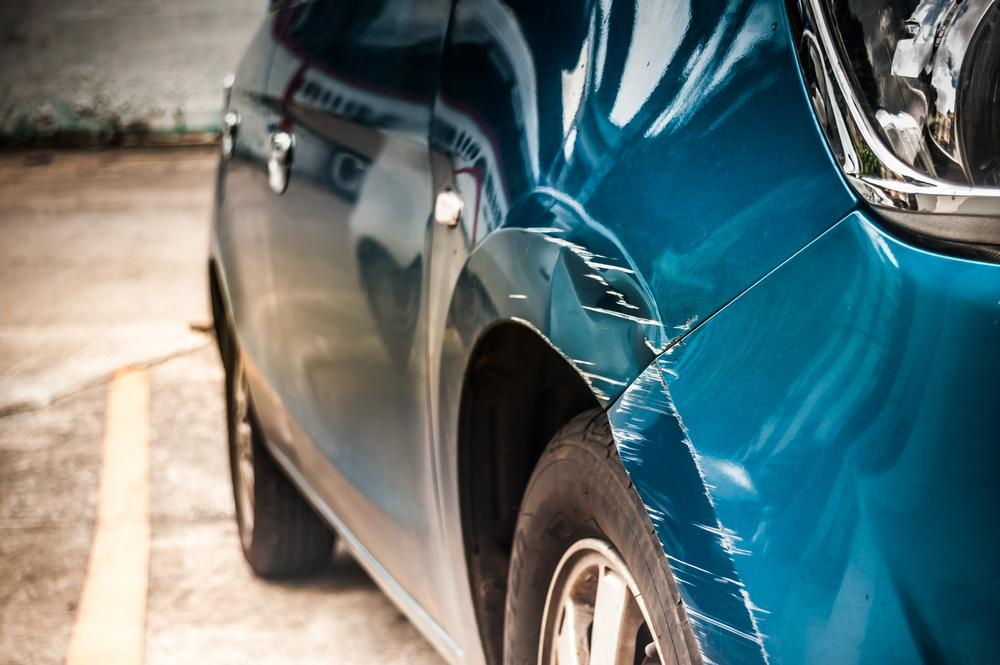scratch: (606, 322, 782, 665), (507, 225, 704, 412)
